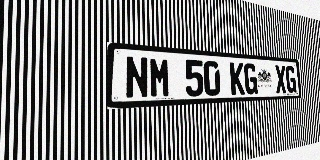0: (203, 61, 220, 96)
5: (185, 59, 204, 97)
G: (244, 63, 258, 95), (285, 66, 296, 93)
K: (230, 62, 245, 95)
M: (149, 57, 171, 98)
N: (125, 56, 149, 99)
X: (275, 65, 287, 93)
